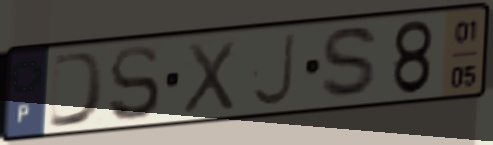8: (391, 18, 436, 97)
D: (45, 48, 109, 131)
J: (250, 29, 298, 110)
S: (317, 23, 384, 104), (106, 42, 164, 125)
X: (179, 36, 239, 118)
